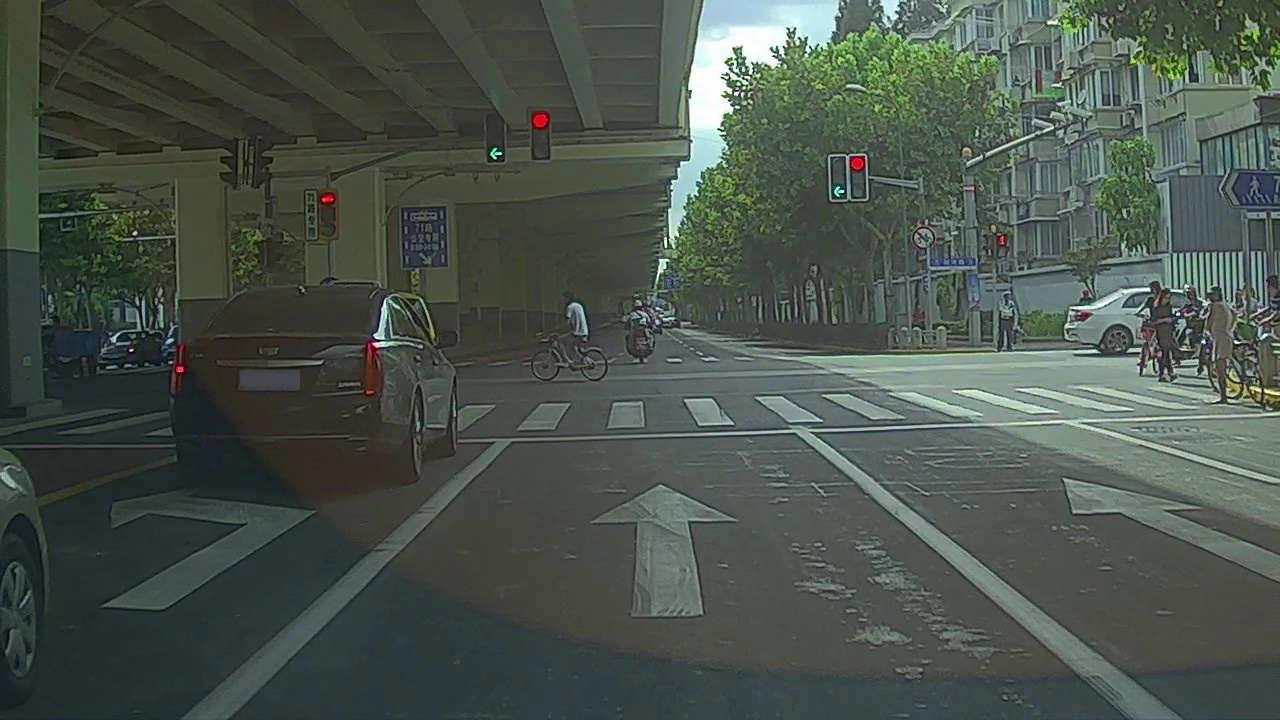traffic_light: (485, 113, 505, 165), (532, 110, 549, 160), (850, 154, 868, 201), (827, 157, 847, 199)
